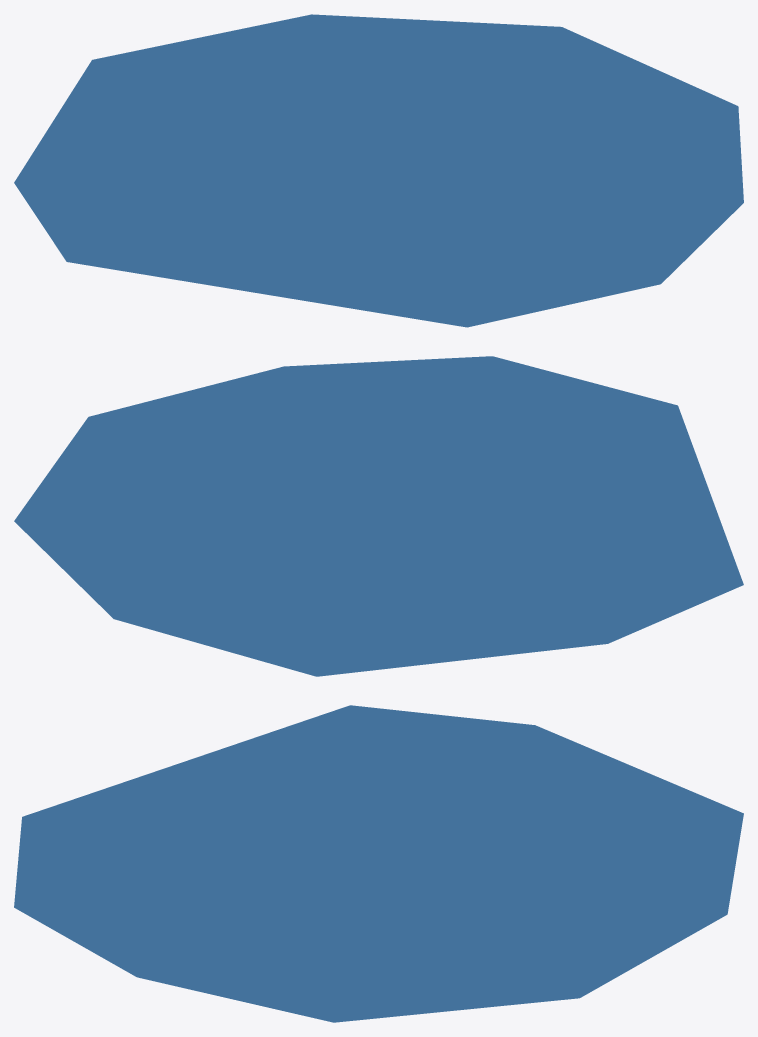
3 views of the same model, one above another, from view 1: azimuth 30°, elevation 25°; view 2: azimuth 150°, elevation 25°; view 3: azimuth 270°, elevation 25° (orthographic). The views are drawn at different scales.
Parts seen in each view (by area): view 1: water; view 2: water; view 3: water.
Part boxes in pixels (x1,y1,x2,y2): water: (14, 14, 743, 327); water: (14, 356, 743, 676); water: (14, 705, 743, 1022).
Size of what is drawn, in the model's own units: 40.17 by 0 by 39.03.
